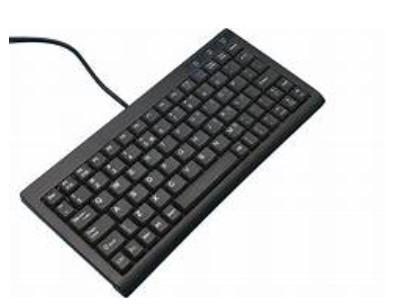Keyboard: (19, 29, 325, 298)
